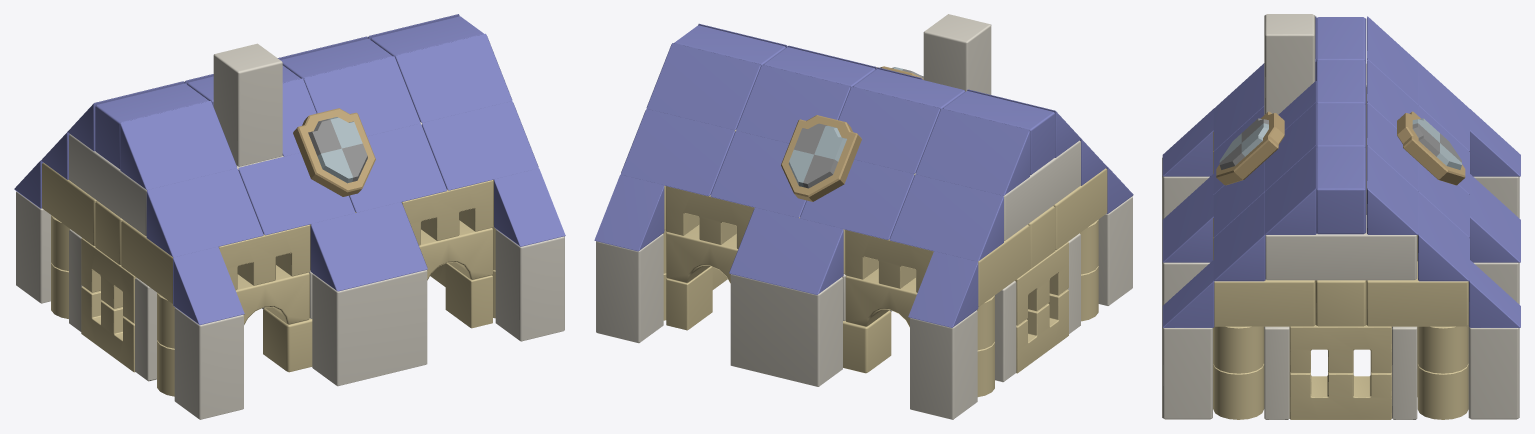
Rendered from house shield.fbx.
3 renders of one model, left to right at view 1: azimuth 30°, elevation 25°; view 2: azimuth 150°, elevation 25°; view 3: azimuth 270°, elevation 25°, orthographic. The views are drawn at different scales.
Visible parts, largest first — view 1: pCube563, pCube582, pCube583, pCube617, pCube626, pCube586, pCube620, pCube589, pCube590, pCube619, pCube584, pCube585 (+30 smaller); view 2: pCube627, pCube559, pCube567, pCube616, pCube565, pCube613, pCube571, pCube572, pCube615, pCube614, pCube566, pCube564 (+30 smaller); view 3: pCube606, pCube595, pCube571, pCube592, pCube594, pCube589, pCube626, pCube624, pCube593, pCube586, pCube565, pCube620 (+34 smaller).
Part boxes in pixels (left/top/right/bottom): pCube563: left=312, top=270, right=427, bottom=386; pCube582: left=310, top=202, right=427, bottom=291; pCube583: left=146, top=168, right=263, bottom=257; pCube617: left=120, top=101, right=236, bottom=189; pCube626: left=213, top=43, right=282, bottom=166; pCube586: left=422, top=101, right=538, bottom=190; pCube620: left=395, top=33, right=512, bottom=122; pCube589: left=495, top=229, right=564, bottom=341; pCube590: left=174, top=307, right=243, bottom=419; pCube619: left=303, top=56, right=420, bottom=136; pCube584: left=238, top=153, right=355, bottom=235; pCube585: left=349, top=123, right=446, bottom=212; pCube627: left=730, top=274, right=842, bottom=386; pCube559: left=729, top=207, right=843, bottom=294; pCube567: left=889, top=174, right=1003, bottom=261; pCube616: left=915, top=108, right=1029, bottom=195; pCube565: left=621, top=109, right=734, bottom=196; pCube613: left=646, top=43, right=760, bottom=130; pCube571: left=596, top=233, right=663, bottom=343; pCube572: left=910, top=310, right=977, bottom=419; pCube615: left=838, top=86, right=940, bottom=173; pCube614: left=736, top=65, right=850, bottom=143; pCube566: left=800, top=159, right=914, bottom=239; pCube564: left=710, top=130, right=806, bottom=217; pCube606: left=1265, top=215, right=1417, bottom=280; pCube595: left=1366, top=261, right=1468, bottom=326; pCube571: left=1468, top=309, right=1519, bottom=419; pCube592: left=1289, top=372, right=1391, bottom=419; pCube594: left=1214, top=279, right=1315, bottom=326; pCube589: left=1162, top=309, right=1212, bottom=419; pCube626: left=1264, top=14, right=1315, bottom=114; pCube624: left=1316, top=146, right=1366, bottom=234; pCube593: left=1289, top=325, right=1391, bottom=372; pCube586: left=1213, top=192, right=1265, bottom=281; pCube565: left=1418, top=192, right=1469, bottom=281; pCube620: left=1265, top=146, right=1316, bottom=234.
Bounding box in the file's own units: 144 × 108 × 126.
